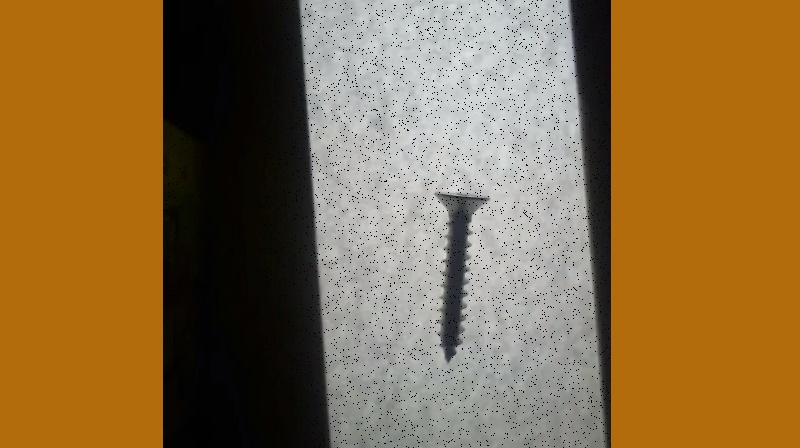S001: (426, 188, 488, 366)
